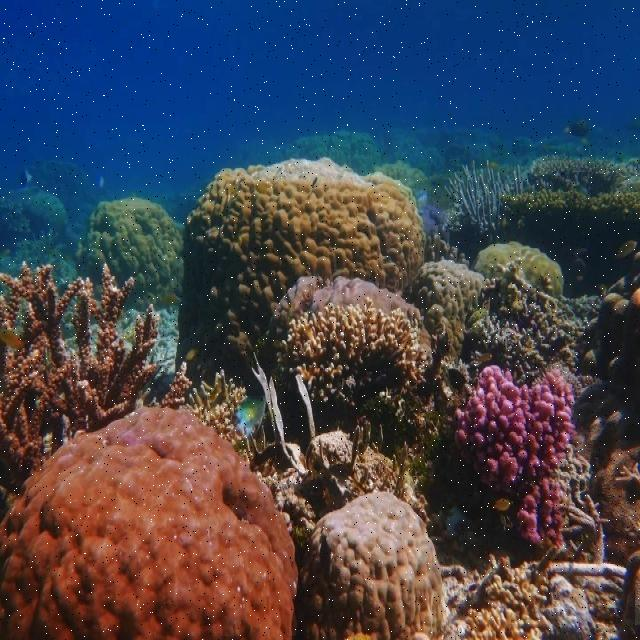reefs: (0, 409, 296, 639), (173, 158, 426, 383), (0, 263, 160, 473), (281, 263, 484, 403), (456, 365, 577, 547), (303, 493, 448, 638), (78, 197, 184, 310), (505, 161, 639, 229), (446, 165, 540, 235)
